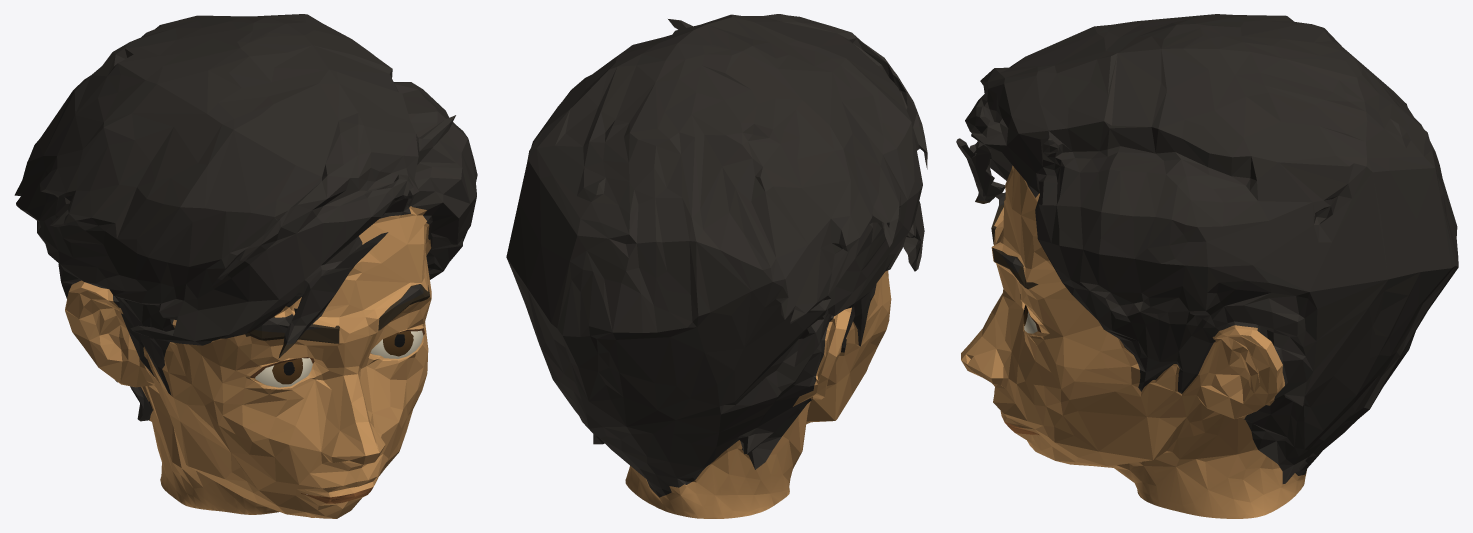
File: sol-head.glb
3 views of the same model, side by side, from view 1: azimuth 30°, elevation 25°; view 2: azimuth 150°, elevation 25°; view 3: azimuth 270°, elevation 25° (orthographic). The views are drawn at different scales.
Visible parts, largest first — view 1: Swept black hair, Skin, Brows, Eye ivory, Iris; view 2: Swept black hair, Skin; view 3: Swept black hair, Skin, Brows.
Boxes of the visible parts, x1,y1,x2,y2 form: Swept black hair: (14, 14, 477, 421); Skin: (65, 206, 431, 518); Brows: (245, 243, 430, 358); Eye ivory: (255, 330, 423, 387); Iris: (272, 331, 413, 384); Swept black hair: (506, 14, 927, 497); Skin: (625, 270, 891, 518); Swept black hair: (956, 14, 1458, 483); Skin: (961, 165, 1306, 518); Brows: (975, 196, 1038, 289).
Bounding box in the file's own units: 0.146 × 0.169 × 0.1703.
